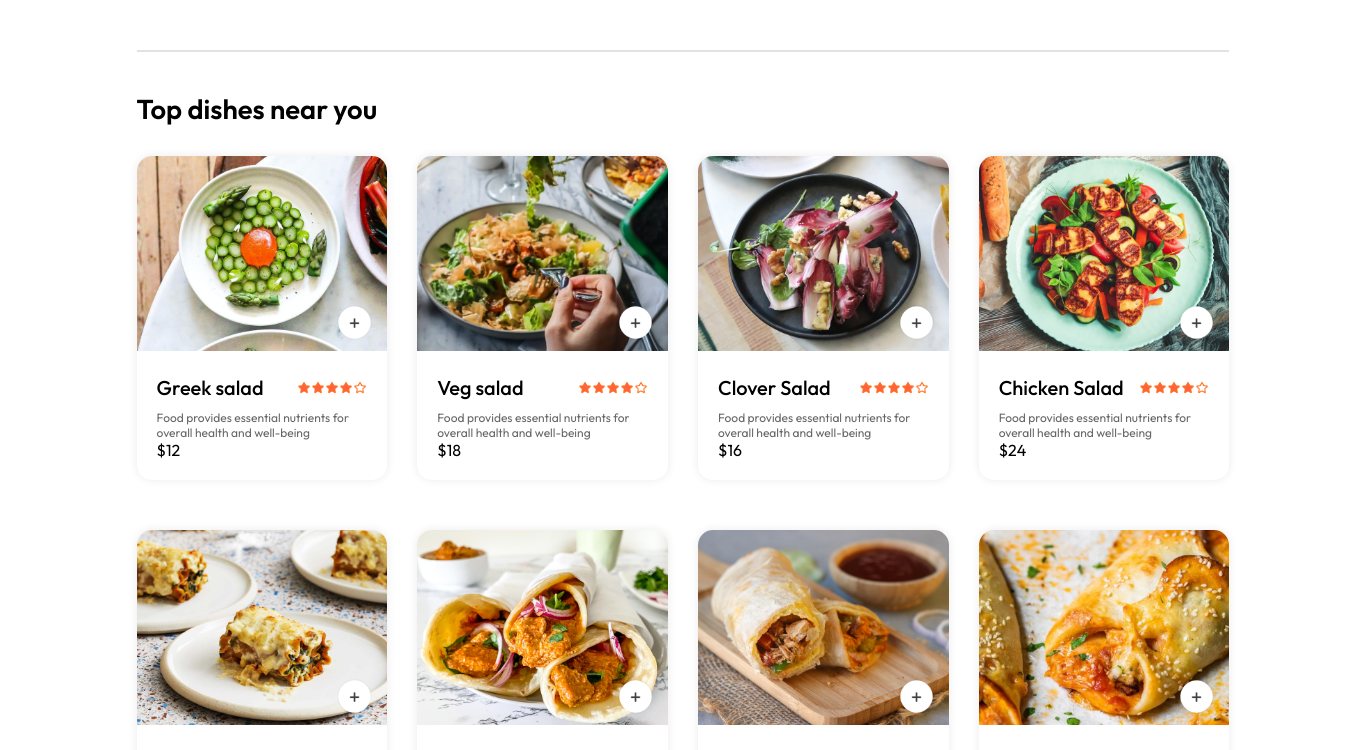
Test: FoodItem Component Tests › should add item to cart
The image size is (1366, 750).
(page scrolled)
Click the 1st picture with test id "add-icon1": click(355, 323) x1=337 y1=305 x2=372 y2=340
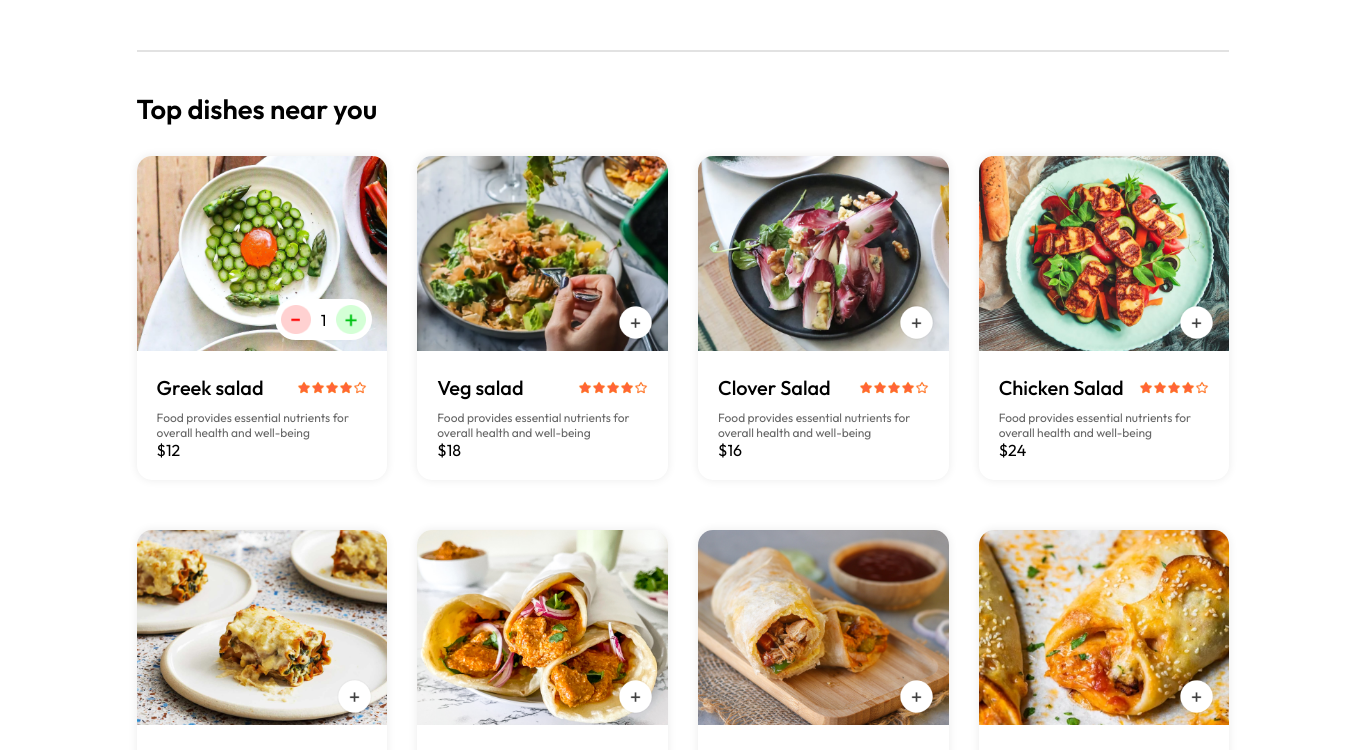
Result: the element with class "food-item-counter" is shown at x1=275 y1=299 x2=373 y2=340
Result: the text "1" is shown at x1=321 y1=310 x2=326 y2=330
